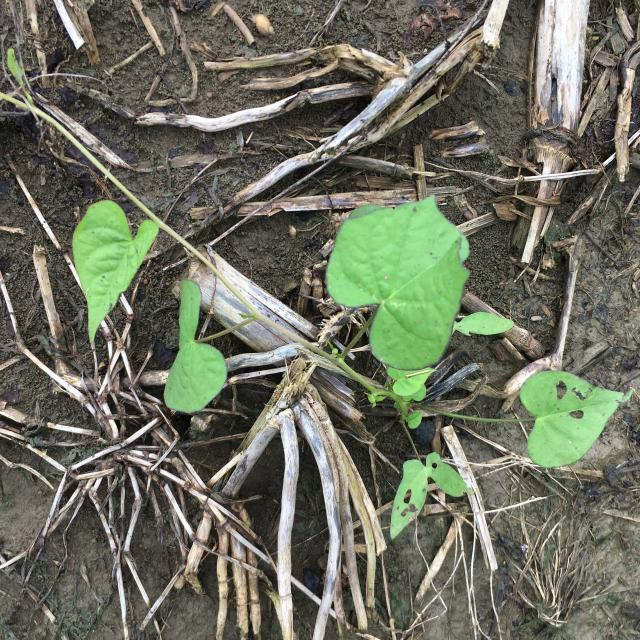MorningGlory: (6, 47, 632, 539)
